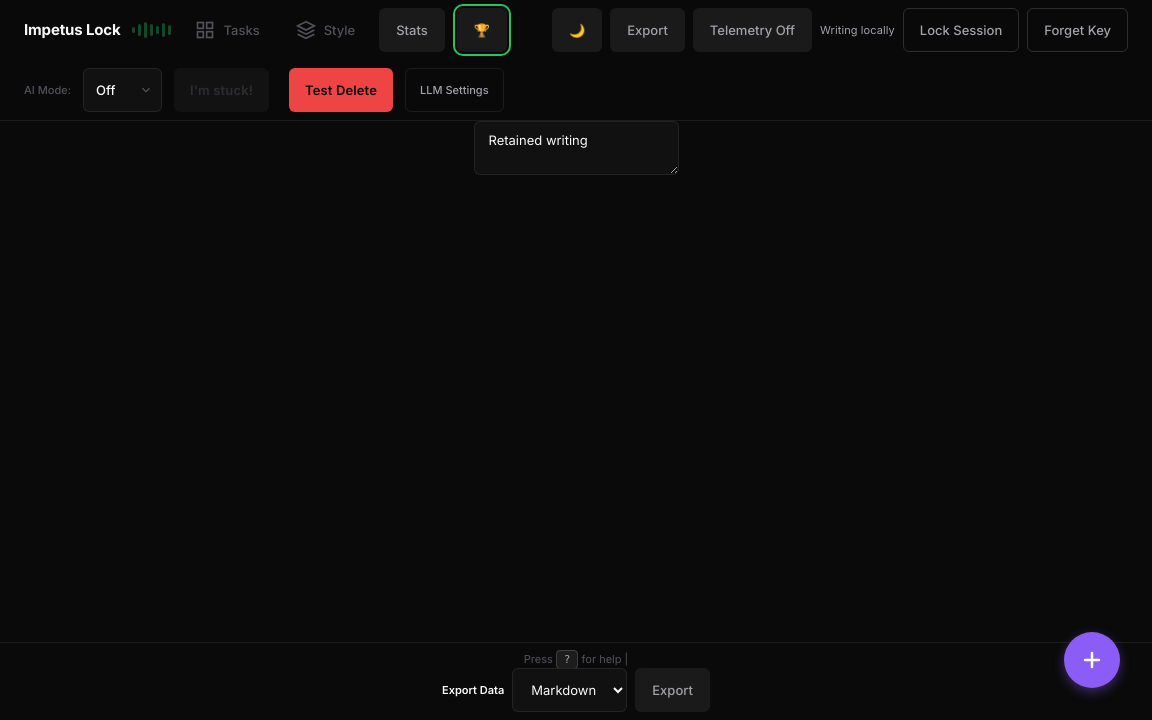
Test: keeps achievements-toggle keyboard focus inside and returns it after Escape
The image size is (1152, 720).
Click the button with test id "achievements-toggle" at x=482, y=30, box [457,8,507,52]
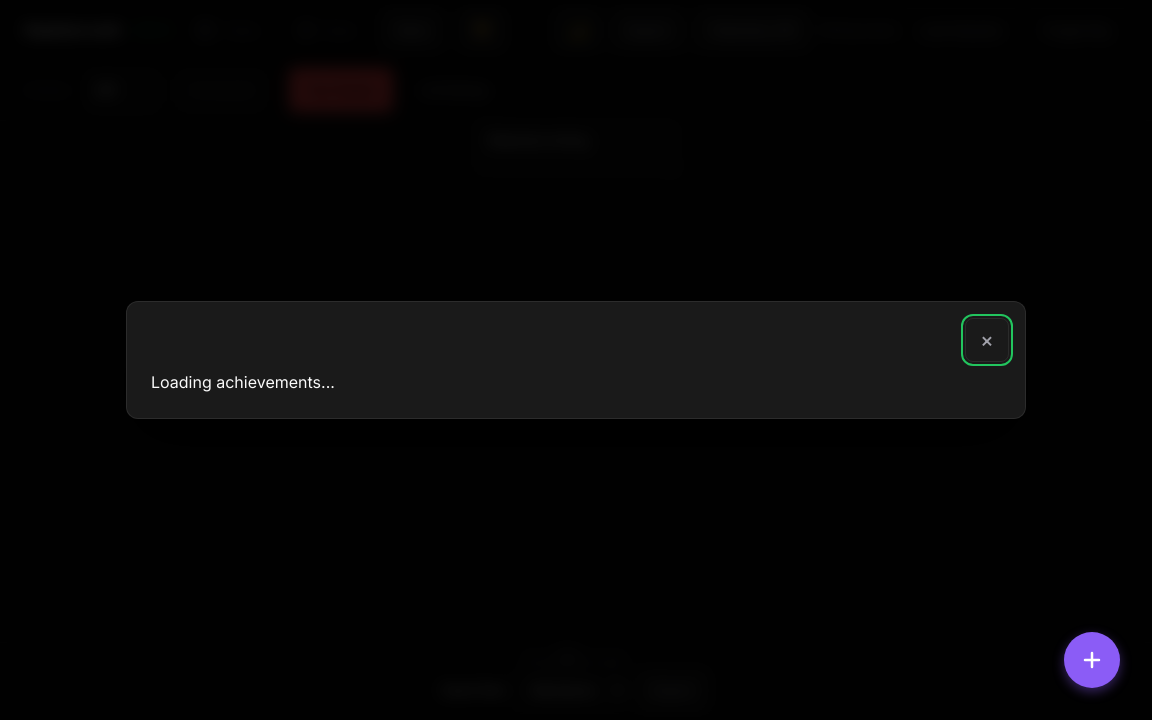
Press Tab in the button named "Close Achievements", box [965,318,1009,362]
Press Escape in the button named "Close Achievements", box [965,318,1009,362]
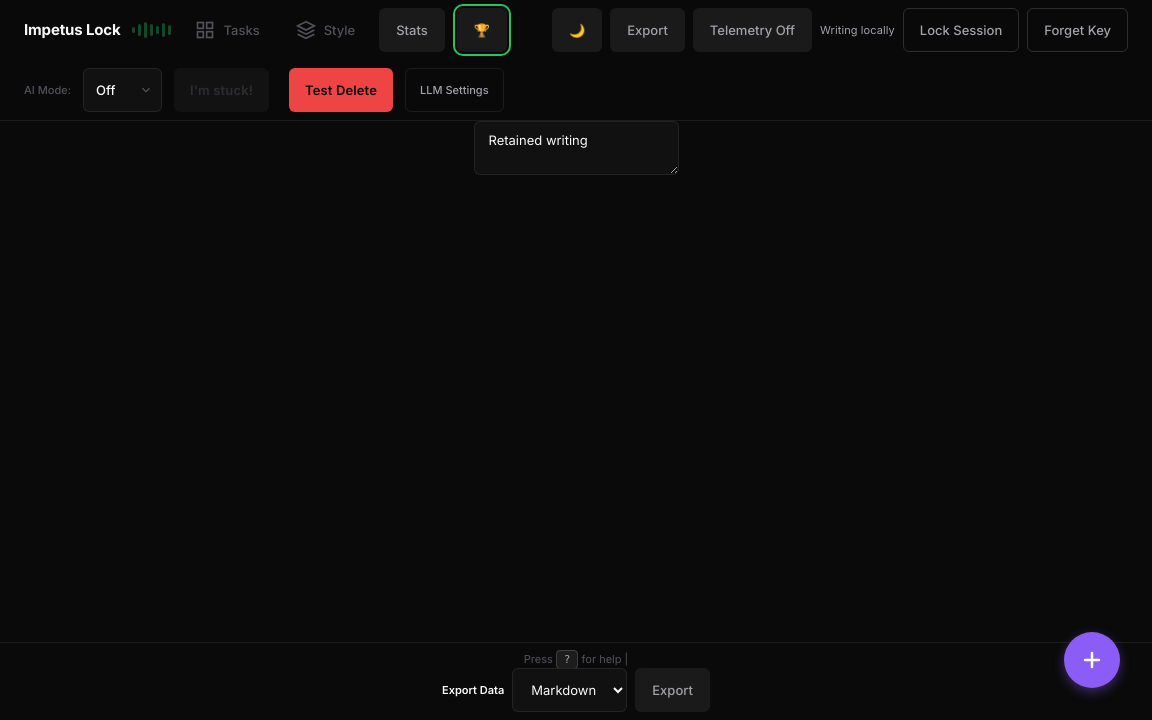
Expected: the text box named "Writing" holds "Retained writing", [474,121,678,175]
Expected: the text "achievements" is gone
